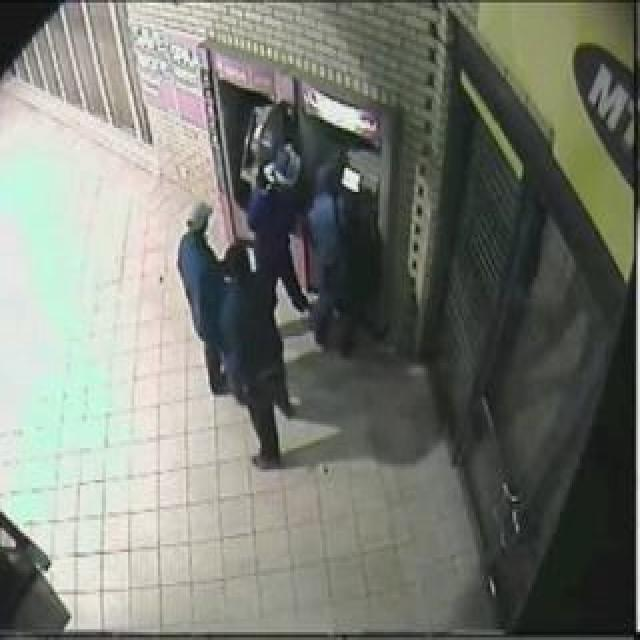thief: (164, 160, 354, 380)
